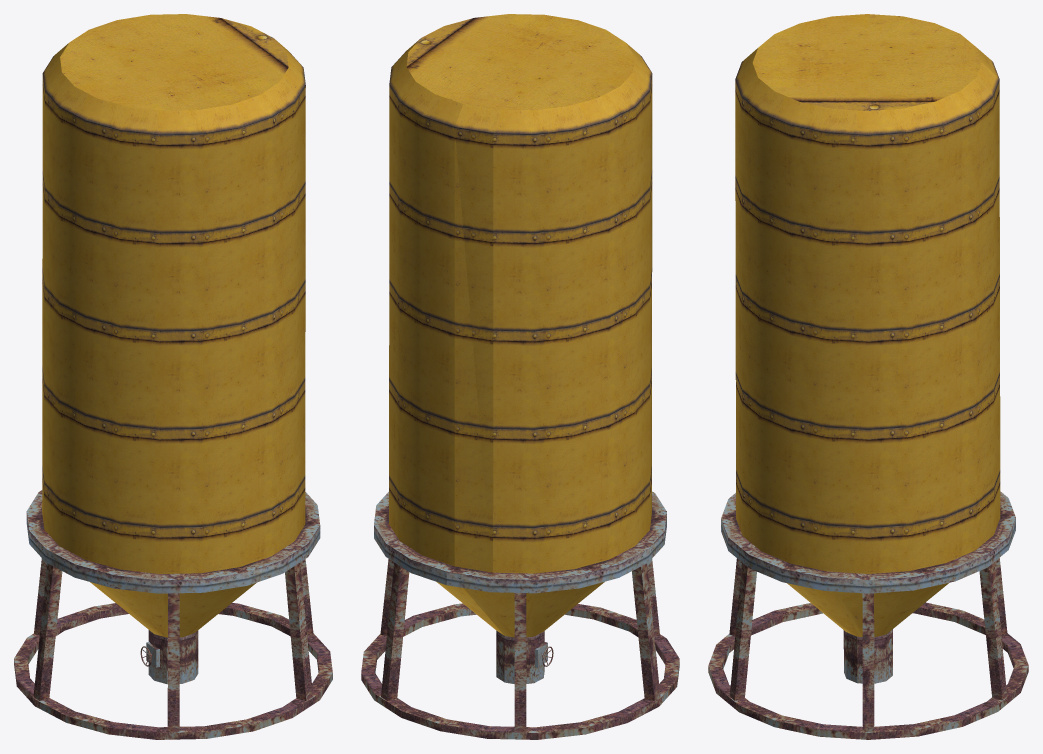
The model's file is silo.DAE.
3 renders of one model, left to right at view 1: azimuth 30°, elevation 25°; view 2: azimuth 150°, elevation 25°; view 3: azimuth 270°, elevation 25°, orthographic.
Visible parts, largest first — view 1: silo; view 2: silo; view 3: silo.
Boxes of the visible parts, x1,y1,x2,y2 form: silo: (14, 14, 332, 739); silo: (361, 14, 679, 739); silo: (708, 14, 1028, 739).
Size of the model in its own units: 4.19 by 4.19 by 8.82.
